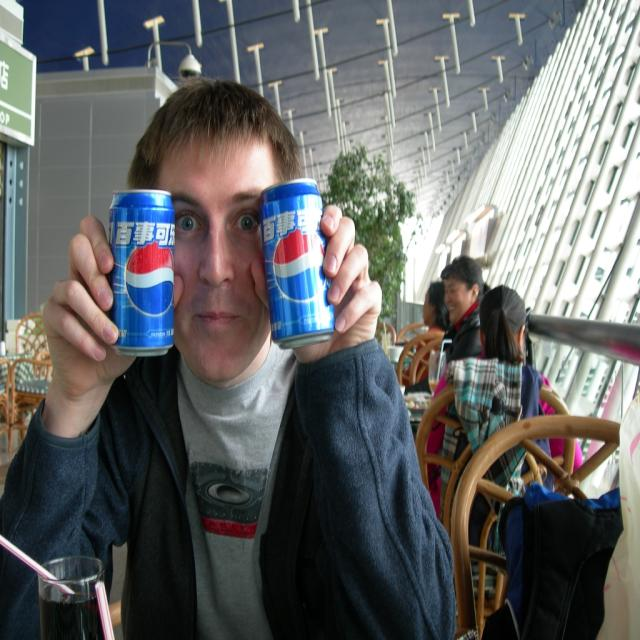pepsi: (123, 243, 181, 319), (270, 230, 326, 305)
